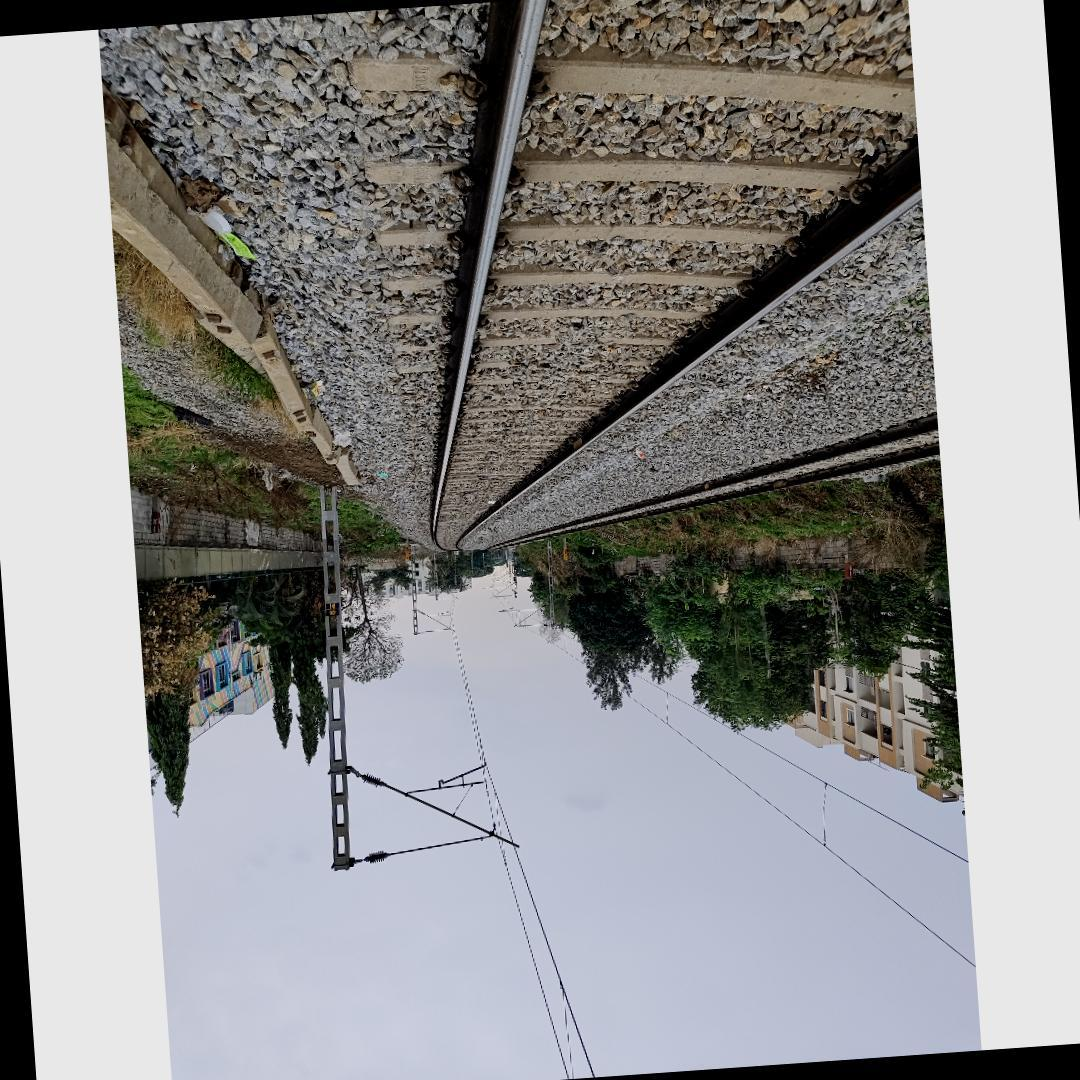track: (424, 0, 921, 559)
